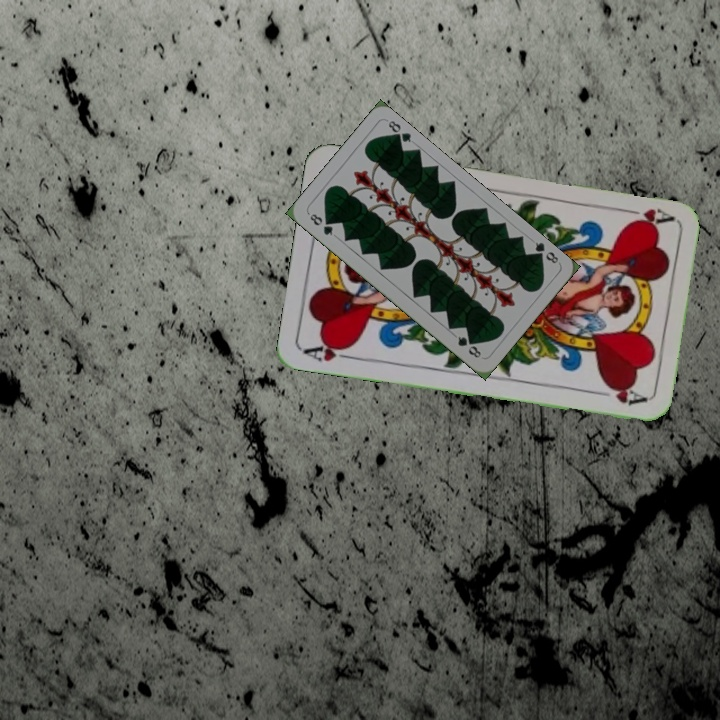G8: (304, 209, 336, 238), (529, 238, 561, 266)
HA: (301, 338, 360, 365), (616, 204, 675, 228)
